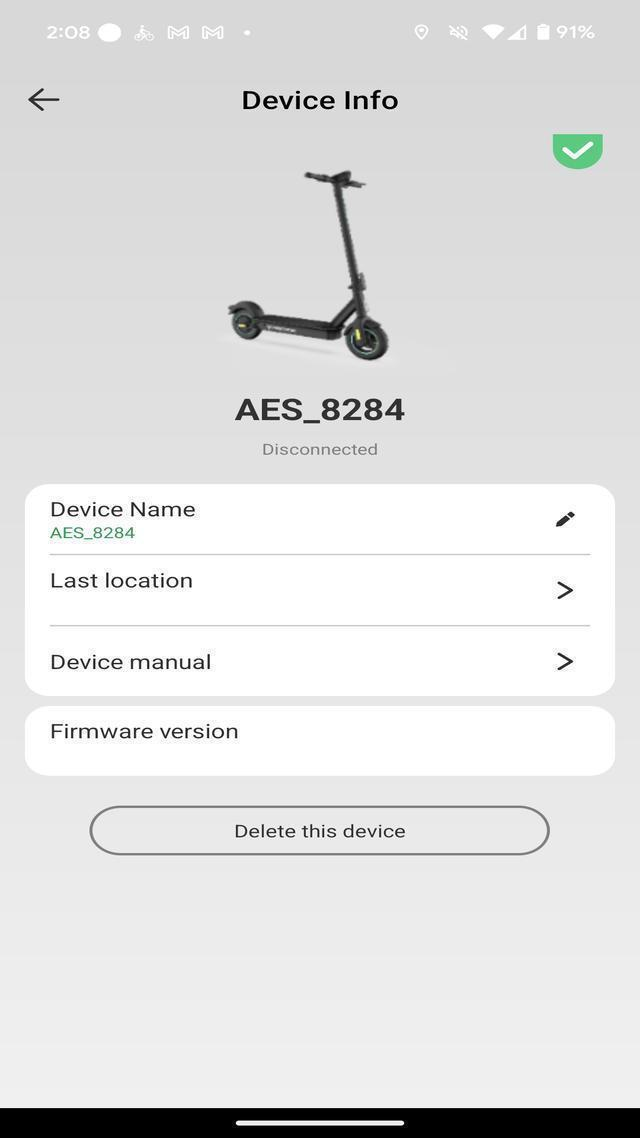Icon: (554, 131, 608, 170), (28, 88, 62, 121), (444, 18, 474, 44), (200, 22, 229, 46), (163, 22, 192, 44), (97, 21, 122, 45), (554, 579, 576, 606), (132, 22, 156, 46), (553, 650, 575, 676), (557, 504, 579, 530), (506, 21, 530, 44), (479, 21, 506, 40), (414, 24, 431, 47), (534, 21, 552, 42), (241, 24, 257, 40)
Image: (220, 160, 398, 370)
Text: (224, 392, 414, 426), (41, 718, 248, 746), (238, 82, 404, 116), (44, 645, 218, 675), (228, 818, 412, 846), (45, 566, 202, 598), (43, 494, 198, 520), (254, 434, 386, 464), (48, 520, 140, 545), (42, 22, 94, 44), (553, 23, 600, 43)
TextButton: (22, 704, 622, 781), (88, 803, 550, 858)
